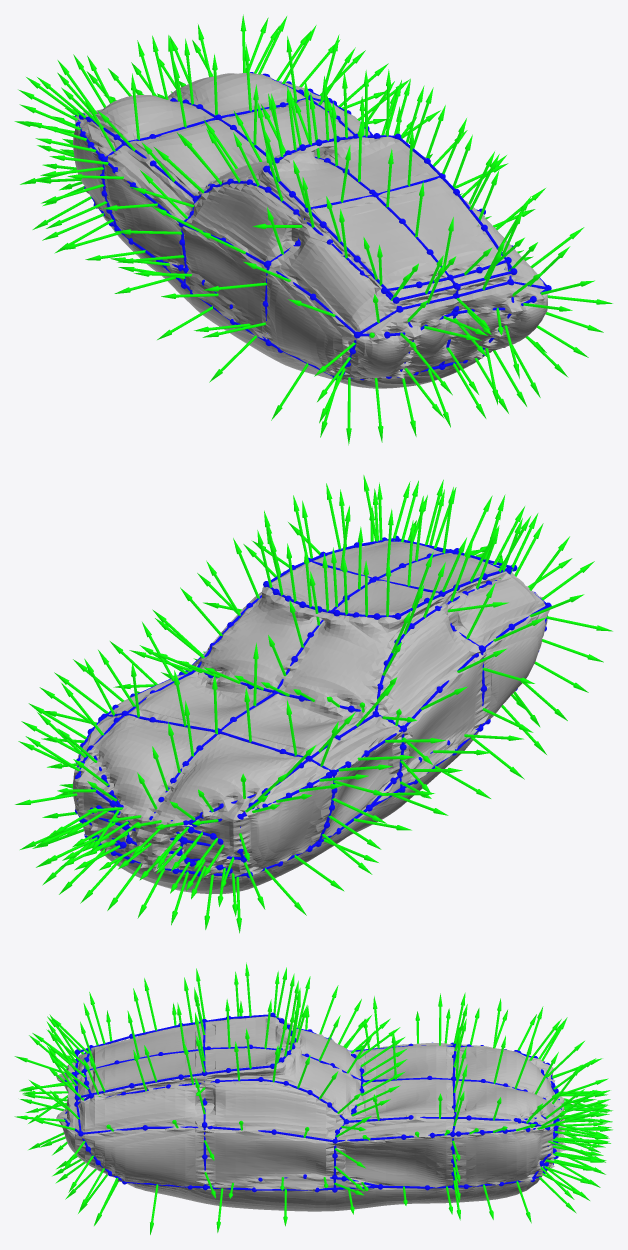
Rendered from ils_car2.gltf.
3 renders of one model, top to bottom at view 1: azimuth 30°, elevation 25°; view 2: azimuth 150°, elevation 25°; view 3: azimuth 270°, elevation 25°, orthographic. The views are drawn at different scales.
Bounding box in the file's own units: 0.5792 × 0.4038 × 1.08.
